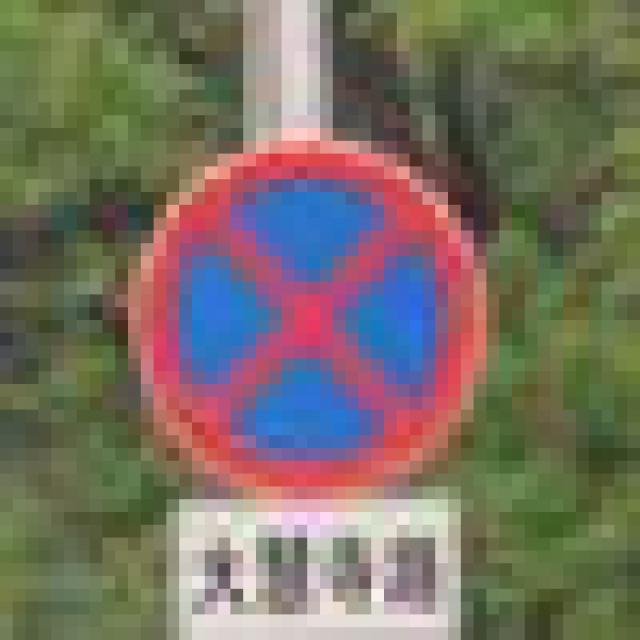no_parking: (116, 128, 487, 474)
